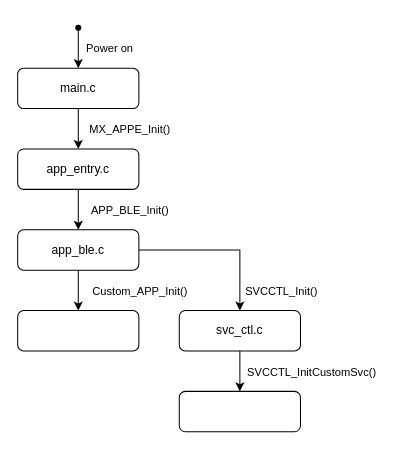
Image size: 393x449. Some labels were removed from this diagram. The shapes that lost their labels are listed below. From the top down, each one's centre as x and y in pixels, then its label:
(78,330): custom_app.c
(239,411): custom_stm.c
